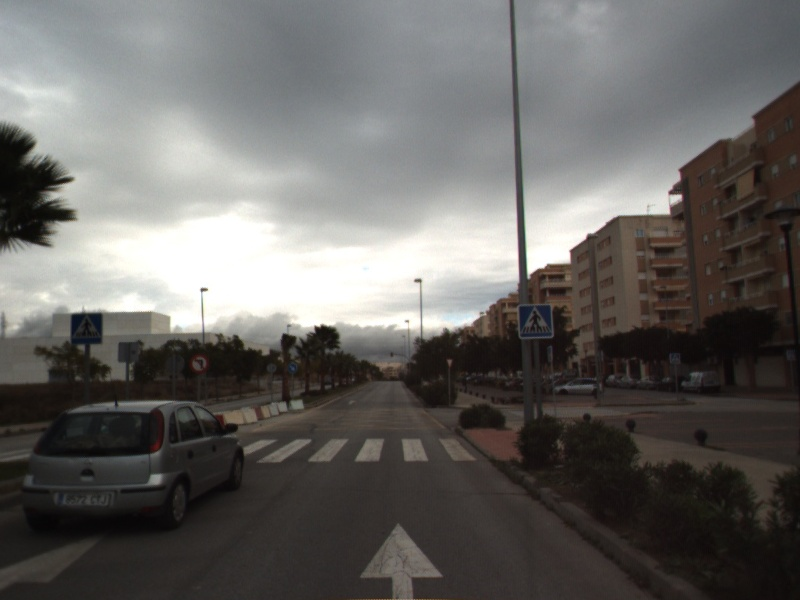STRAIGHT: (357, 520, 446, 600)
